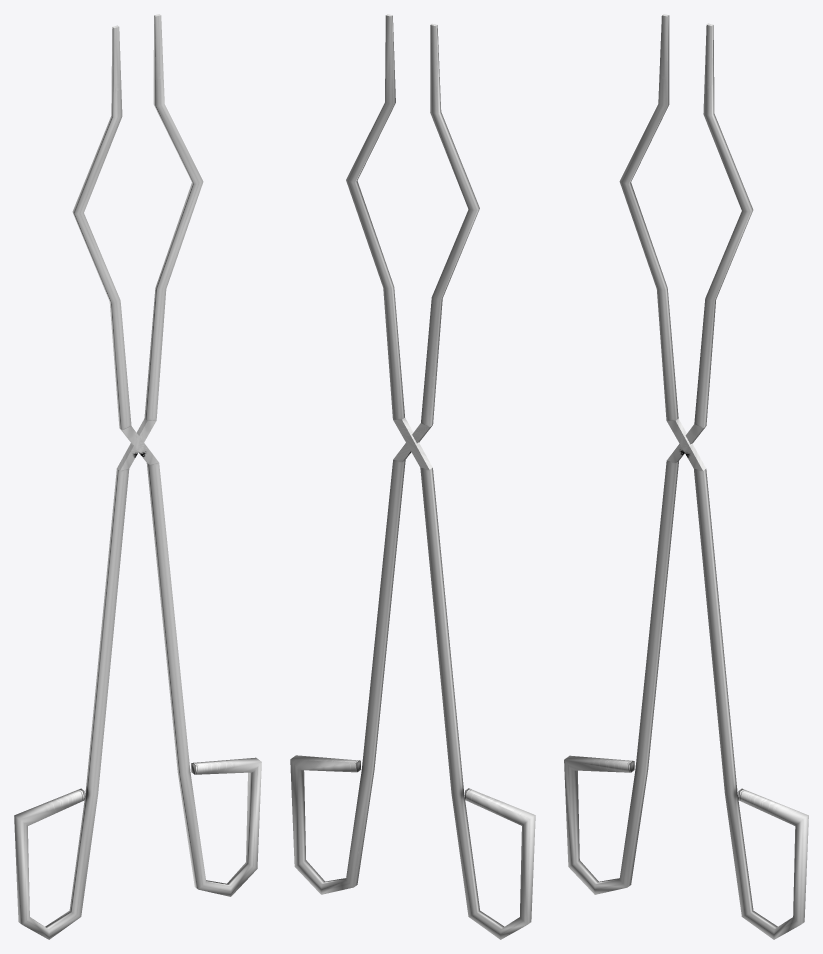
The model's file is Curcible_tongs_Colldr.fbx.
The picture shows the model from 3 angles, left to right: view 1: azimuth 30°, elevation 25°; view 2: azimuth 150°, elevation 25°; view 3: azimuth 330°, elevation 25°; orthographic projection.
Parts seen in each view (by area): view 1: Curcible_tongs_Colldr_L, Curcible_tongs_Colldr_R; view 2: Curcible_tongs_Colldr_L, Curcible_tongs_Colldr_R; view 3: Curcible_tongs_Colldr_R, Curcible_tongs_Colldr_L.
Part boxes in pixels (x1,y1,x2,y2): Curcible_tongs_Colldr_L: (14,14,203,939); Curcible_tongs_Colldr_R: (72,25,261,896); Curcible_tongs_Colldr_L: (346,14,535,939); Curcible_tongs_Colldr_R: (290,23,479,894); Curcible_tongs_Colldr_R: (619,14,808,939); Curcible_tongs_Colldr_L: (564,23,753,894).
Bounding box in the file's own units: 5.81 × 20.66 × 0.2937.
